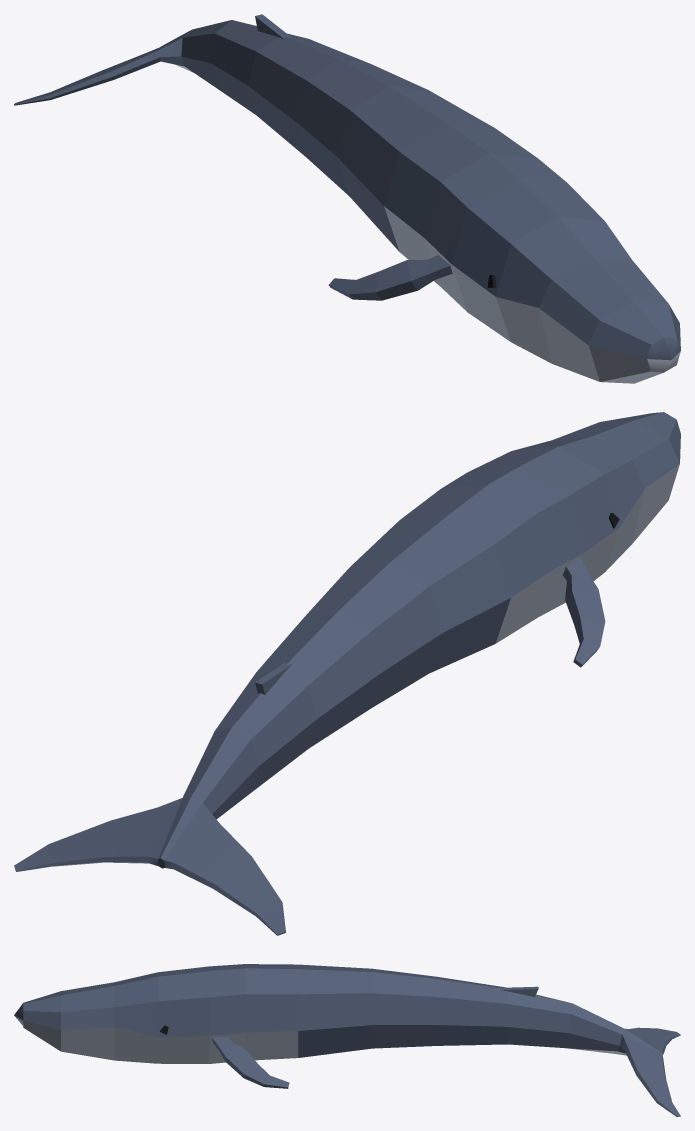
The picture shows the model from 3 angles, top to bottom: view 1: azimuth 30°, elevation 25°; view 2: azimuth 150°, elevation 25°; view 3: azimuth 270°, elevation 25°; orthographic projection. The views are drawn at different scales.
Parts seen in each view (by area): view 1: body, tail, finRight; view 2: body, tail, finRight; view 3: body, tail, finLeft, finBack.
Part boxes in pixels (x1,y1,x2,y2): body: (211,20,680,383); tail: (14,20,231,105); finRight: (328,255,452,300); body: (215,412,680,789); tail: (14,727,285,935); finRight: (563,558,605,667); body: (14,964,572,1063); tail: (565,1003,680,1116); finLeft: (212,1036,289,1088); finBack: (500,986,538,996).
Size of the model in its own units: 44.64 by 26.59 by 149.
Materials: 1 (1 with a texture image).
